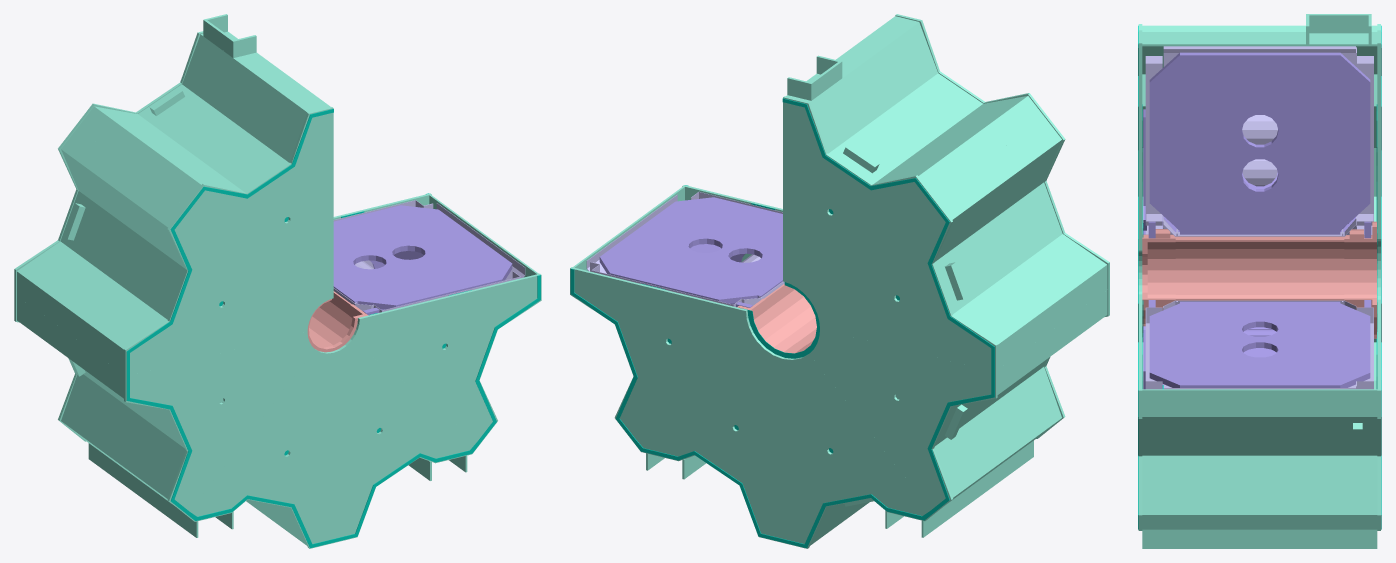
File: End-Cap-Toroid-SideC-cut3.glb
3 renders of one model, left to right at view 1: azimuth 30°, elevation 25°; view 2: azimuth 150°, elevation 25°; view 3: azimuth 270°, elevation 25°, orthographic. The views are drawn at different scales.
Parts seen in each view (by area): view 1: S__0469C088, S__04CB5DB8, S__047E7608, S__04CC2A58, S__046A9078; view 2: S__0469C088, S__04CB5DB8, S__047E7608, S__04CC2A58, S__046A9078; view 3: S__04CB5DB8, S__0469C088, S__04CC2A58, S__046A9078, S__047E7608.
Boxes of the visible parts, bbox=[...] form: S__0469C088: bbox=[14, 14, 541, 548]; S__04CB5DB8: bbox=[333, 205, 512, 315]; S__047E7608: bbox=[126, 109, 540, 547]; S__04CC2A58: bbox=[307, 291, 367, 352]; S__046A9078: bbox=[333, 200, 525, 312]; S__0469C088: bbox=[570, 14, 1109, 548]; S__04CB5DB8: bbox=[599, 197, 782, 307]; S__047E7608: bbox=[570, 98, 994, 548]; S__04CC2A58: bbox=[737, 284, 816, 353]; S__046A9078: bbox=[586, 191, 784, 306]; S__04CB5DB8: bbox=[1143, 52, 1371, 389]; S__0469C088: bbox=[1138, 14, 1380, 548]; S__04CC2A58: bbox=[1142, 221, 1376, 338]; S__046A9078: bbox=[1145, 46, 1373, 389]; S__047E7608: bbox=[1138, 25, 1381, 529].
Bounding box in the file's own units: 10.68 × 11.07 × 4.98.
